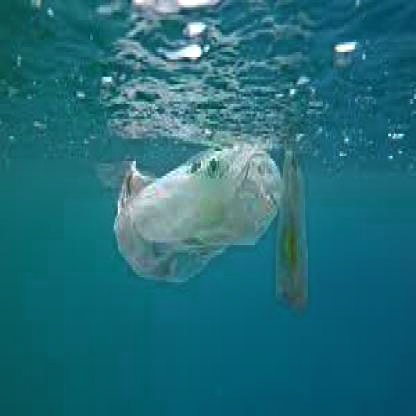pbag: (107, 134, 281, 292), (272, 141, 313, 317)
